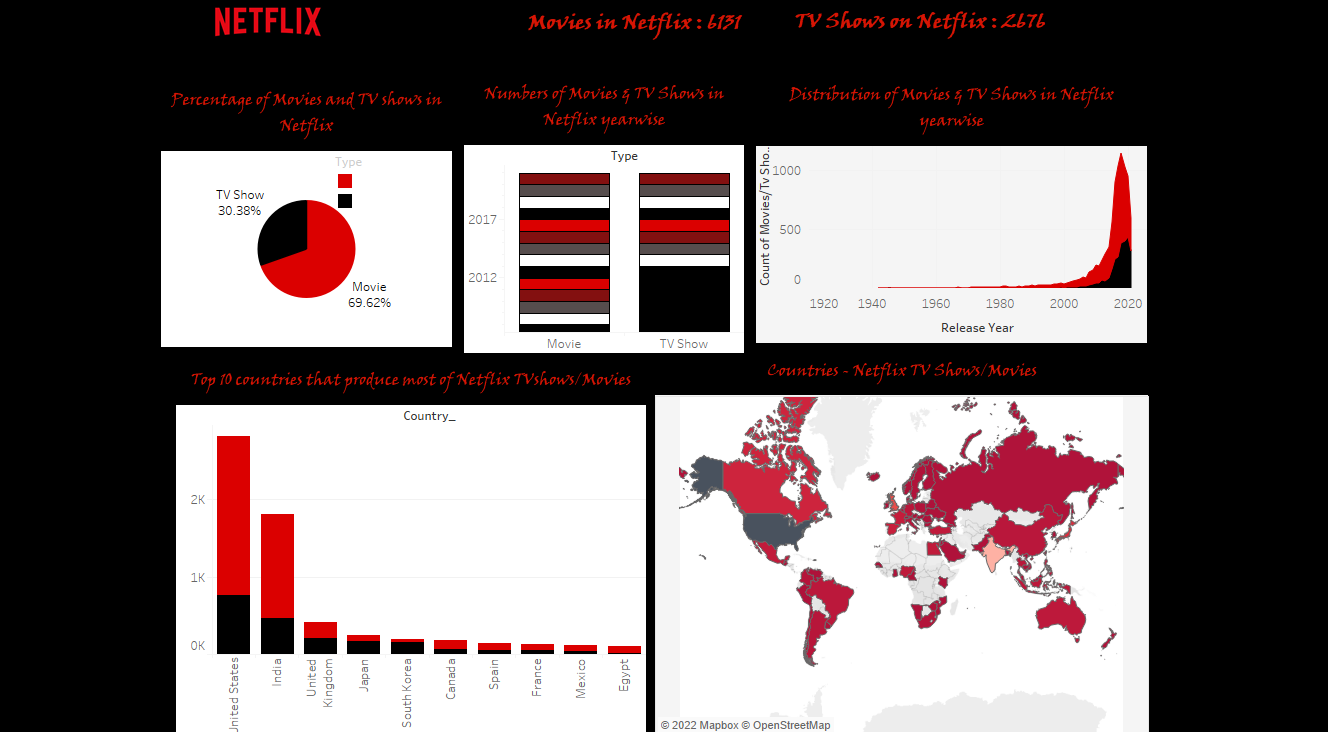

What the dashboard file says about the page in this screenshot:
{"tool":"tableau","page":{"name":"Dashboard 1","canvas":[1000,800],"ordinal":0},"visuals":[{"type":"title","box":[8,8,984,62]},{"type":"text","box":[637,25,261,33]},{"type":"text","box":[370,28,245,30]},{"type":"worksheet","title":"Sheet 4","mark":"Bar","rows":["date_added"],"cols":["type"],"box":[309,96,280,275]},{"type":"worksheet","title":"Sheet 3","mark":"Area","rows":["Sheet1_C4DF6D4F6C8F40D1A15C1E6676E2F498"],"cols":["release_year"],"box":[601,97,391,264]},{"type":"worksheet","title":"Sheet 1","mark":"Pie","box":[6,102,291,263]},{"type":"legend","title":"Sheet 1","param":"[federated.1s7vs8m10hu9i319ultlg0h5mwf4].[none:type:nk]","box":[180,171,116,63]},{"type":"worksheet","title":"Sheet 6","mark":"Multipolygon","box":[500,373,494,380]},{"type":"worksheet","title":"Sheet 8","mark":"Automatic","rows":["type"],"cols":["Calculation_2110780873528815625"],"box":[21,382,470,372]}]}

Visuals, with their boxes on the page's 1000x800 design canvas (x1, y1, x2, y2). These are canvas units, not pixel positions in the 1328x732 screenshot, which may show the page scaled, cropped or inside an application window:
title: bbox=(8, 8, 992, 70)
text: bbox=(637, 25, 898, 58)
text: bbox=(370, 28, 615, 58)
"Sheet 4" worksheet (Bar marks): bbox=(309, 96, 589, 371)
"Sheet 3" worksheet (Area marks): bbox=(601, 97, 992, 361)
"Sheet 1" worksheet (Pie marks): bbox=(6, 102, 297, 365)
"Sheet 1" legend: bbox=(180, 171, 296, 234)
"Sheet 6" worksheet (Multipolygon marks): bbox=(500, 373, 994, 753)
"Sheet 8" worksheet: bbox=(21, 382, 491, 754)
